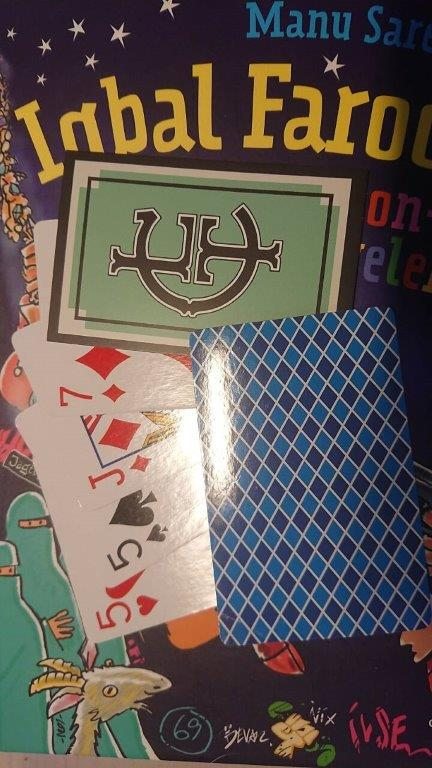5H: (71, 591, 186, 646)
5S: (51, 515, 185, 590)
7D: (37, 339, 185, 420)
BACK: (187, 305, 432, 647)
JD: (13, 419, 187, 513)
